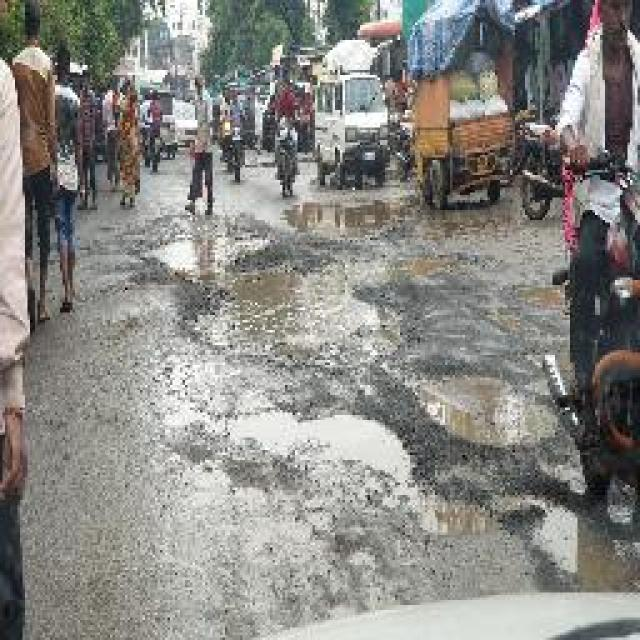waterlogging: (146, 214, 386, 366), (208, 397, 428, 492), (403, 354, 557, 439), (507, 484, 633, 586)
